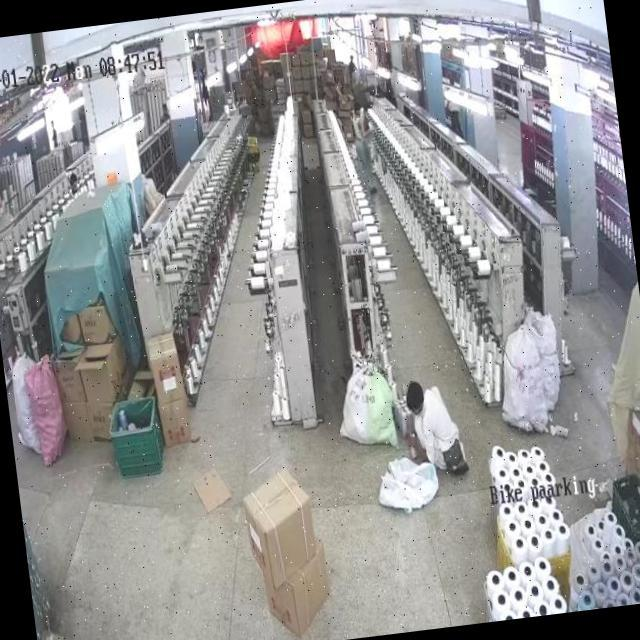person: (400, 374, 468, 474), (350, 99, 374, 210)
